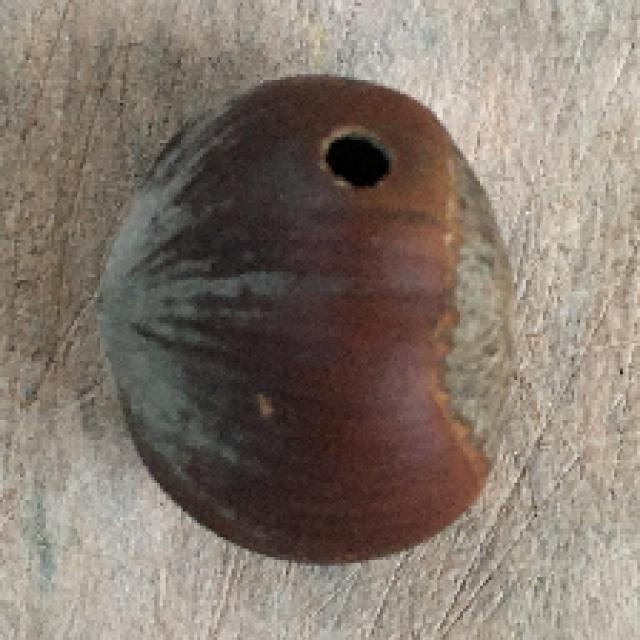damagedHazelnut: (88, 67, 517, 564)
